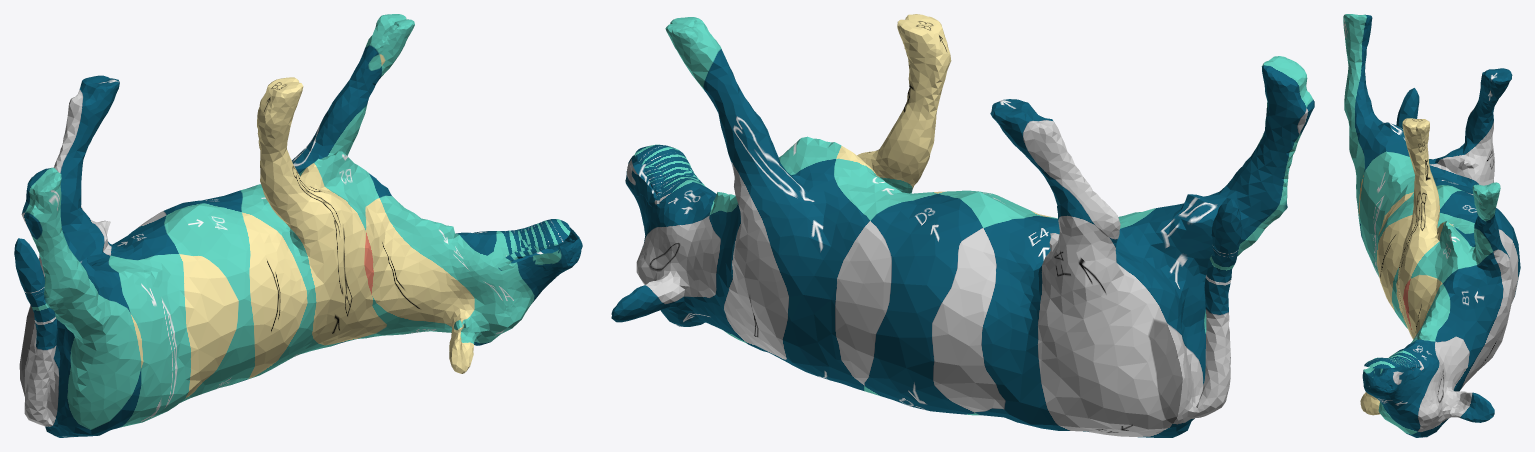
File: lion_02-cow_03.obj
3 renders of one model, left to right at view 1: azimuth 30°, elevation 25°; view 2: azimuth 150°, elevation 25°; view 3: azimuth 270°, elevation 25°, orthographic. The views are drawn at different scales.
Parts seen in each view (by area): view 1: lion_02-cow_03_export; view 2: lion_02-cow_03_export; view 3: lion_02-cow_03_export.
Boxes of the visible parts, x1,y1,x2,y2 form: lion_02-cow_03_export: (14,14,582,437); lion_02-cow_03_export: (611,14,1314,437); lion_02-cow_03_export: (1343,14,1520,437).
Size of the model in its own units: 1 by 0.5262 by 0.3449.
